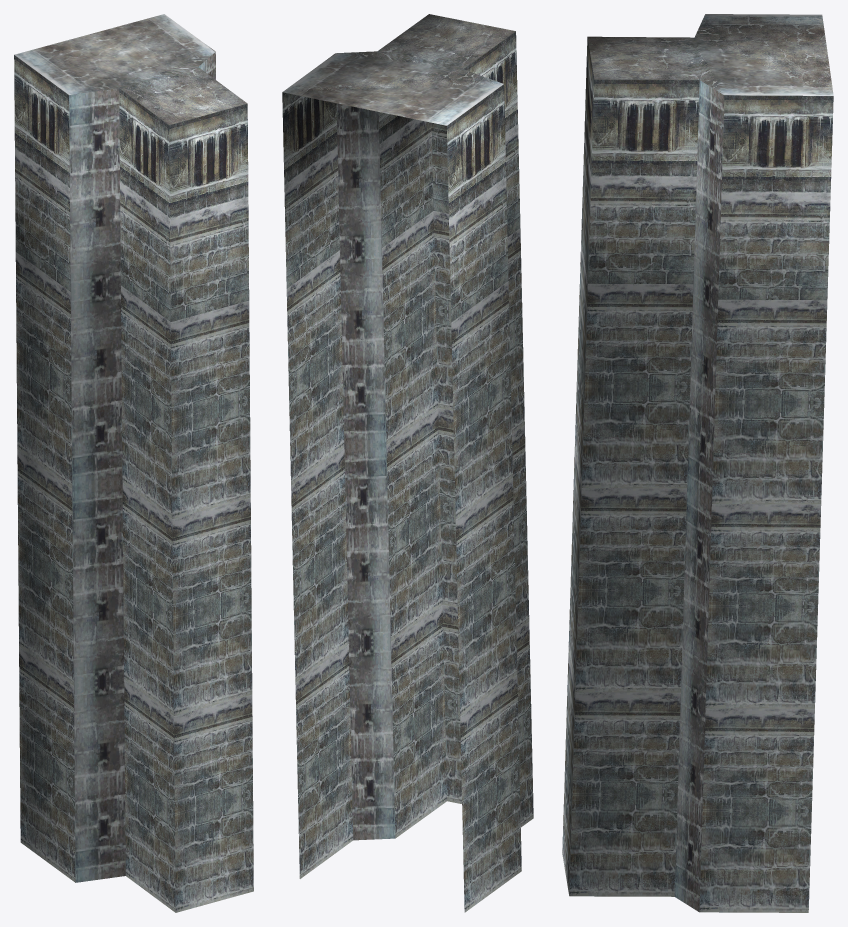
File: S_Build_Snowland144.FBX
3 renders of one model, left to right at view 1: azimuth 30°, elevation 25°; view 2: azimuth 150°, elevation 25°; view 3: azimuth 270°, elevation 25°, orthographic. The views are drawn at different scales.
Parts seen in each view (by area): view 1: S_Build_Snowland144; view 2: S_Build_Snowland144; view 3: S_Build_Snowland144.
Part boxes in pixels (box(x1,y1,x2,y2)): S_Build_Snowland144: box(14, 14, 253, 912); S_Build_Snowland144: box(282, 14, 533, 912); S_Build_Snowland144: box(562, 14, 833, 912).
Size of the model in its own units: 480 by 662 by 2210.
